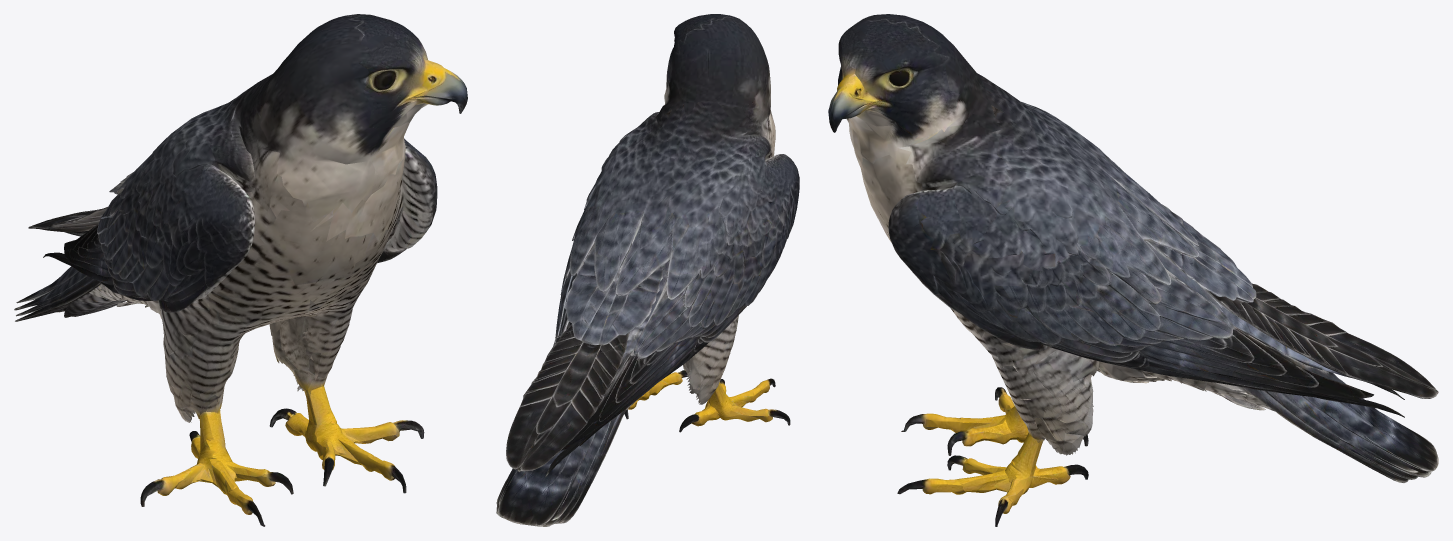
The model's file is perch.glb.
3 views of the same model, side by side, from view 1: azimuth 30°, elevation 25°; view 2: azimuth 150°, elevation 25°; view 3: azimuth 270°, elevation 25° (orthographic). The views are drawn at different scales.
Visible parts, largest first — view 1: Mesh_0; view 2: Mesh_0; view 3: Mesh_0.
Boxes of the visible parts, bbox=[...] form: Mesh_0: bbox=[14, 14, 467, 526]; Mesh_0: bbox=[496, 14, 799, 526]; Mesh_0: bbox=[828, 14, 1438, 526].
Size of the model in its own units: 0.947 by 1.55 by 1.9.
1 material, 1 textured.
